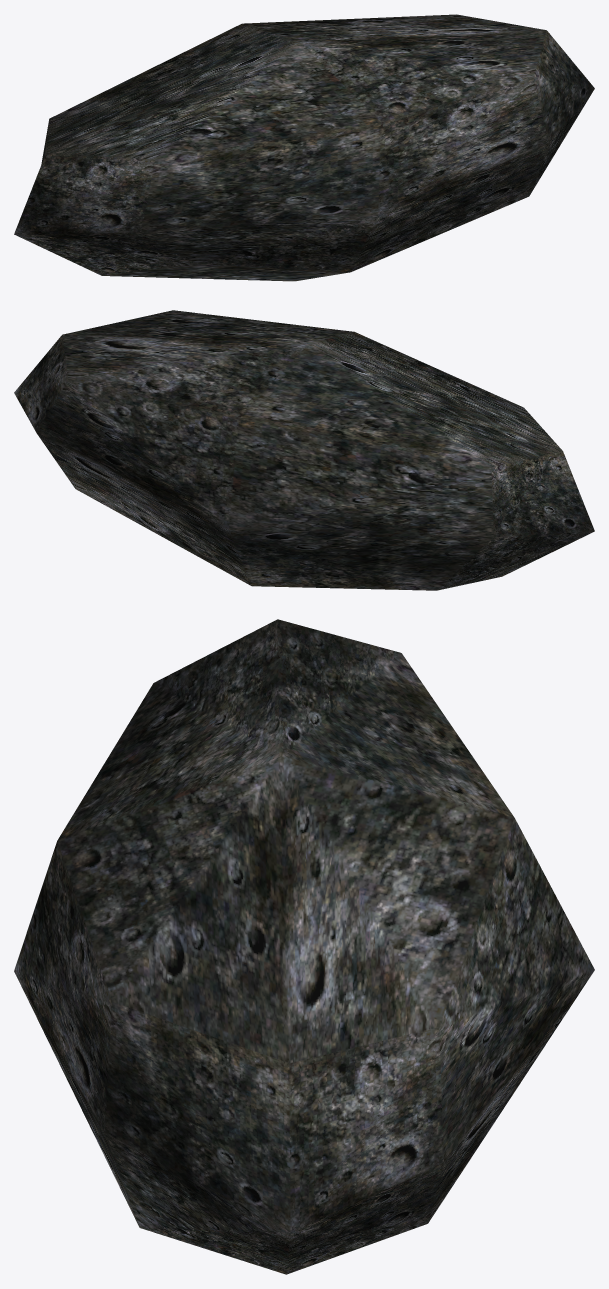
The model's file is asteroid_iron_radial_s03_l1.fbx.
3 views of the same model, one above another, from view 1: azimuth 30°, elevation 25°; view 2: azimuth 150°, elevation 25°; view 3: azimuth 270°, elevation 25° (orthographic). The views are drawn at different scales.
Parts seen in each view (by area): view 1: mesh_node; view 2: mesh_node; view 3: mesh_node.
Part boxes in pixels (x1,y1,x2,y2): mesh_node: (14, 14, 594, 281); mesh_node: (14, 310, 594, 590); mesh_node: (14, 619, 594, 1274).
Bounding box in the file's own units: 3.68 × 1.43 × 1.77.
